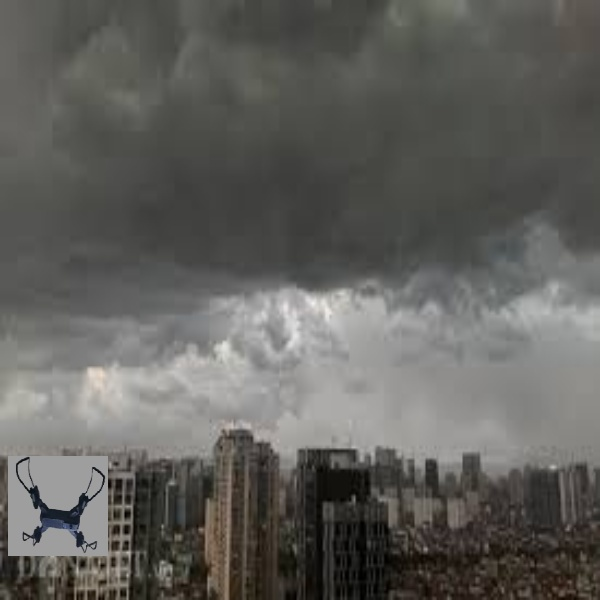drone: (11, 456, 107, 553)
